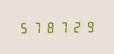eight: (44, 20, 56, 34)
five: (17, 20, 29, 34)
nine: (83, 19, 95, 33)
seven: (30, 20, 42, 34), (57, 20, 69, 33)
two: (70, 19, 82, 33)
